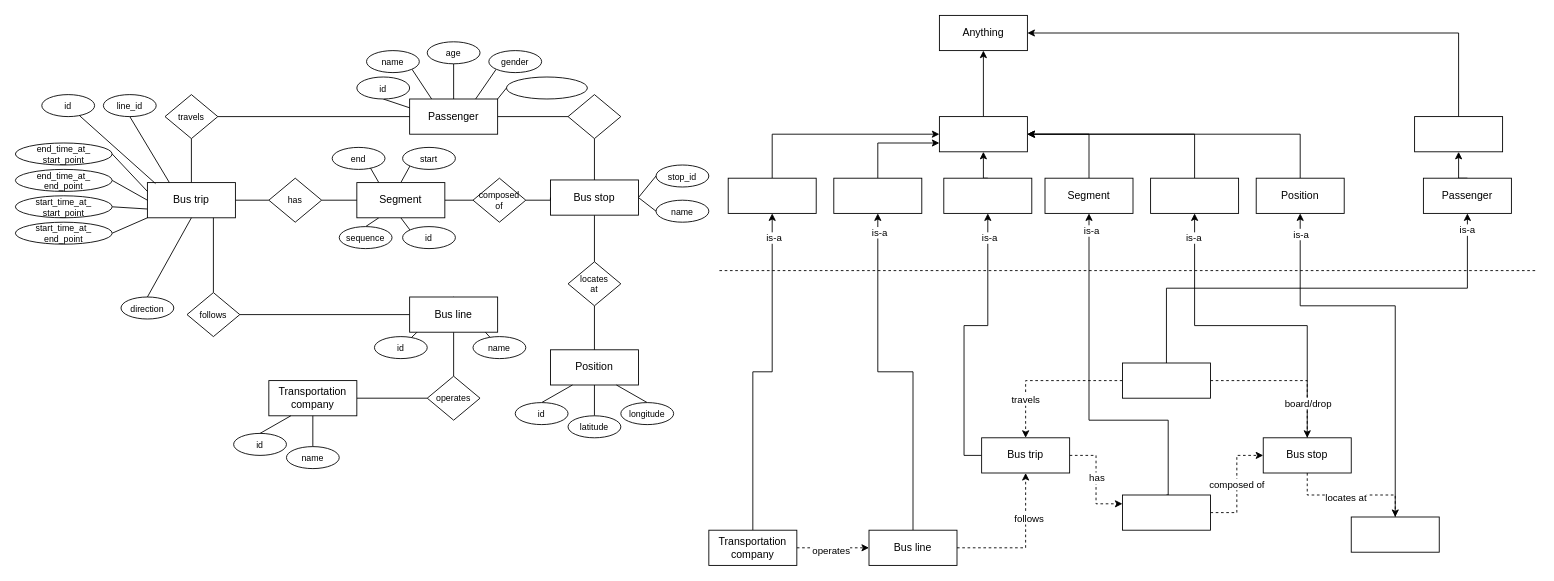
The diagram is 1554 pixels wide and 581 high, and some of its shapes have lost their labels. Here are the shapes that lost their labels. From the top down, the centre of each, then its label:
At (546,87): "phone_number".
At (594,116): "board/ drop".
At (983,134): "Transportation".
At (1458,134): "Person".
At (771,195): "Company".
At (877,195): "Line".
At (987,195): "Trip".
At (1194,195): "Stop".
At (1166,380): "Bus passenger".
At (1166,512): "Bus s egment".
At (1394,534): "Bus stop position".
